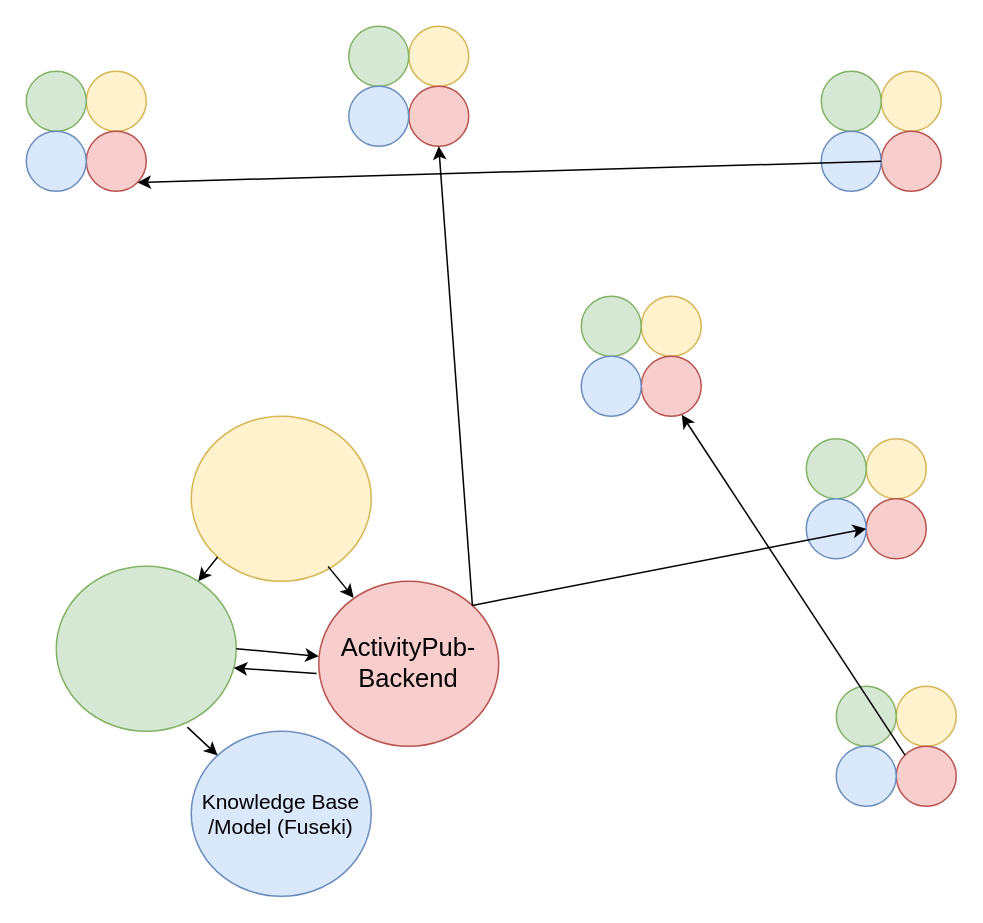
This 983x923 diagram has some shape labels left out. Here are the shapes that lost their labels. From the top down, the box of each, then its label:
(190, 415, 371, 581): Frontend
(55, 565, 236, 731): Fungus-Backend
